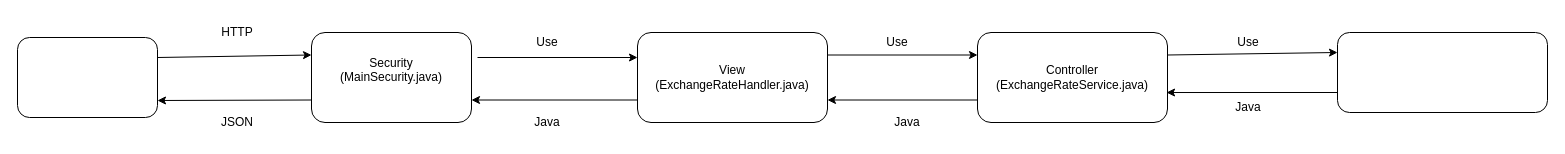
Some shapes in this 1565 by 154 pixel diagram are drawn without their labels. Each missing label, with the centre of its shape:
"Client (Postman)" belongs at (87,77).
"Model (ExchangeRateRepository.java)" belongs at (1442,72).
